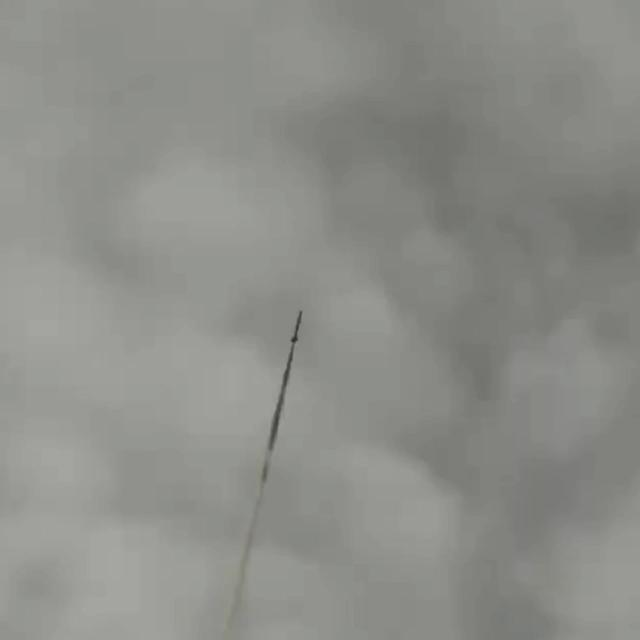smoke_trail_with_rocket: (220, 310, 302, 640)
